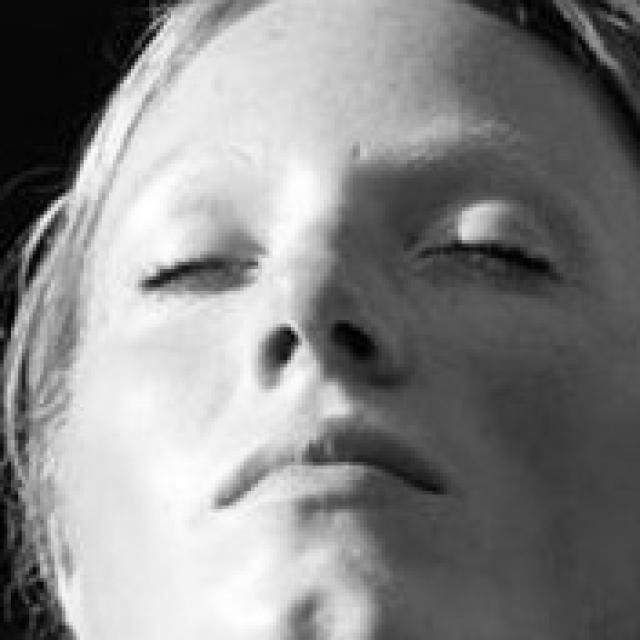real: (92, 21, 574, 550), (116, 192, 601, 314)
